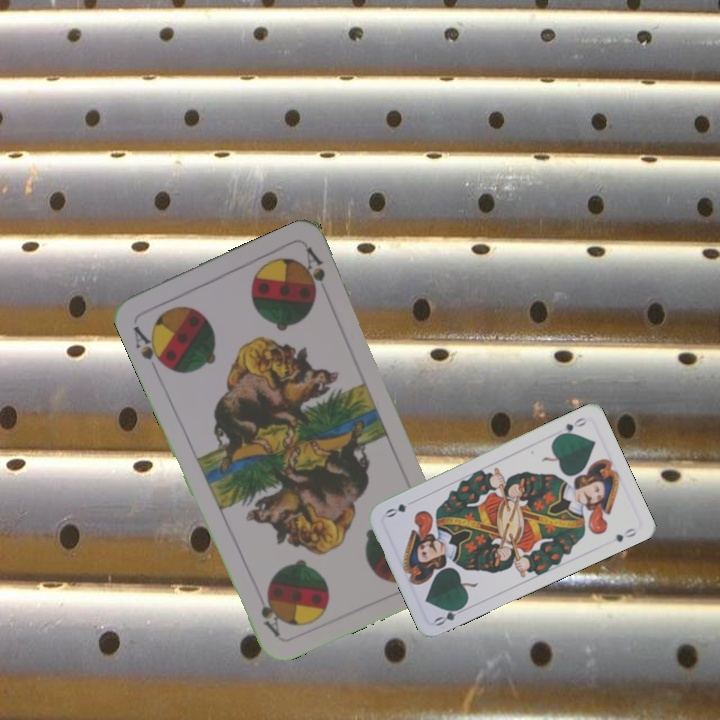GO: (430, 601, 469, 629), (553, 413, 590, 440)
SA: (129, 322, 170, 370)
